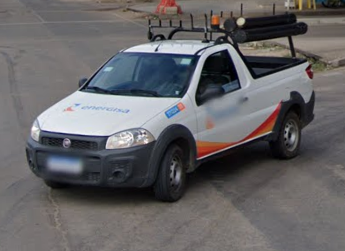car: (25, 3, 322, 204)
